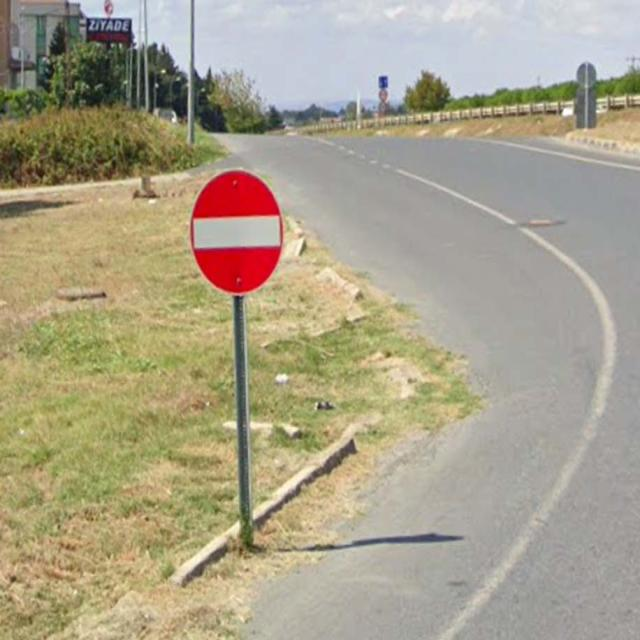girisyok: (189, 169, 283, 291)
